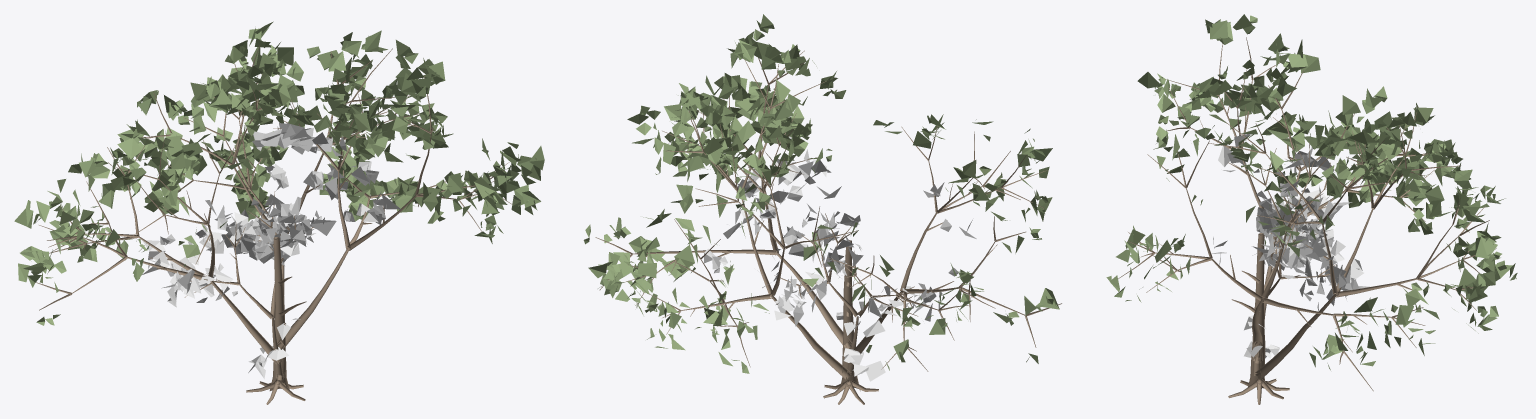
File: tree-c.glb
The picture shows the model from 3 angles, left to right: view 1: azimuth 30°, elevation 25°; view 2: azimuth 150°, elevation 25°; view 3: azimuth 270°, elevation 25°; orthographic projection. The views are drawn at different scales.
Visible parts, largest first — view 1: leaf, leafDeep, wood; view 2: leaf, wood, leafDeep; view 3: leaf, wood, leafDeep.
Part boxes in pixels (bbox=[...]): leaf: bbox=[14, 21, 544, 325]; leafDeep: bbox=[142, 123, 400, 378]; wood: bbox=[36, 45, 512, 404]; leaf: bbox=[583, 14, 1059, 373]; wood: bbox=[595, 50, 1061, 404]; leafDeep: bbox=[704, 136, 976, 381]; leaf: bbox=[1106, 14, 1517, 370]; wood: bbox=[1118, 37, 1496, 404]; leafDeep: bbox=[1211, 129, 1369, 358].
Bounding box in the file's own units: 19.86 × 13.53 × 15.41.
